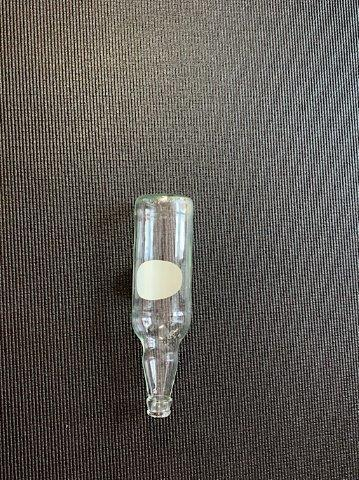botolkaca: (132, 192, 193, 416)
